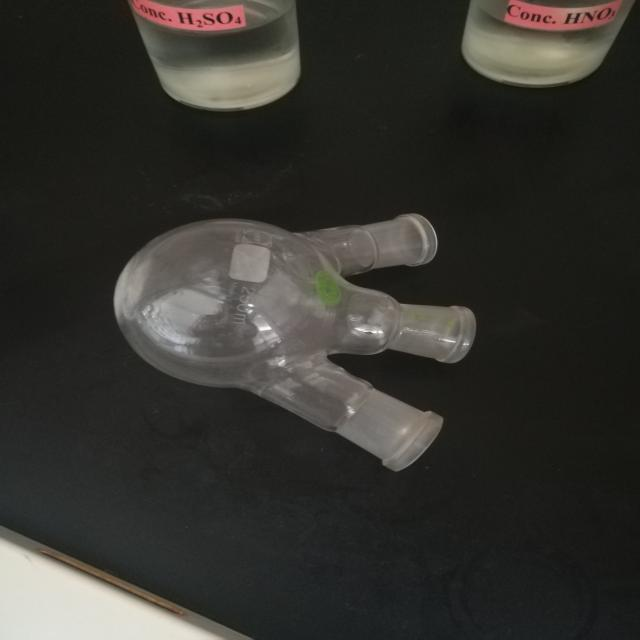Round_Bottom_Flask_Borosilicate_Glass_3_Neck: (93, 147, 528, 501)
